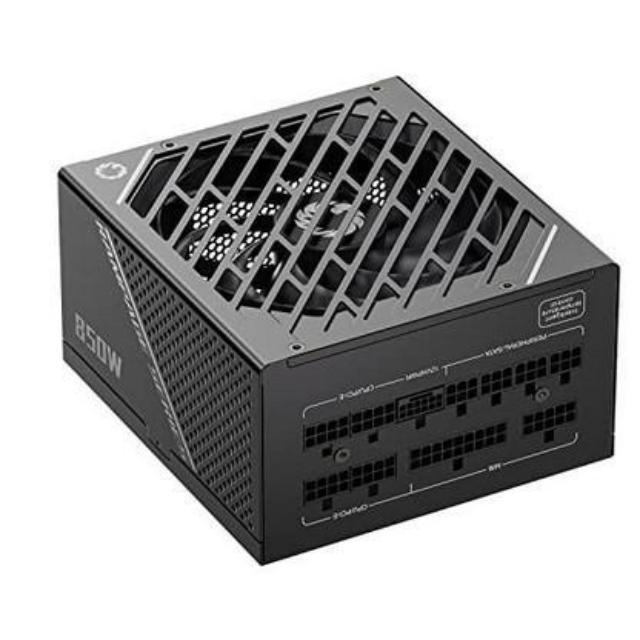PSU: (44, 59, 627, 573)
